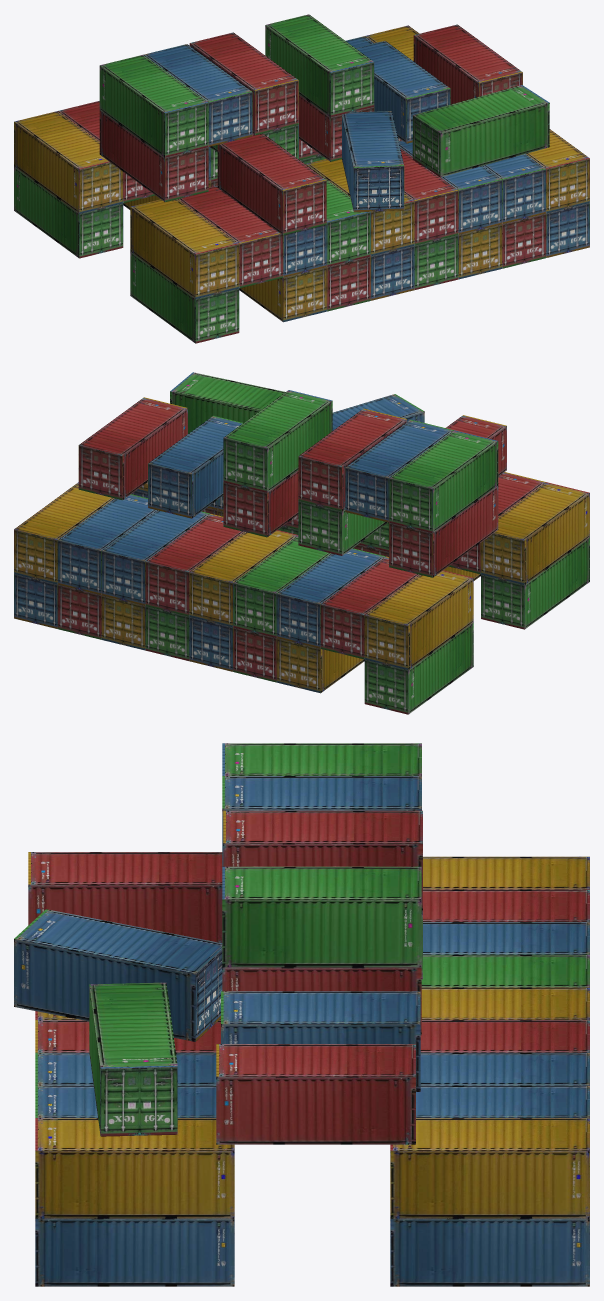
3 renders of one model, top to bottom at view 1: azimuth 30°, elevation 25°; view 2: azimuth 150°, elevation 25°; view 3: azimuth 270°, elevation 25°, orthographic. The views are drawn at different scales.
Parts seen in each view (by area): view 1: polySurface37; view 2: polySurface37; view 3: polySurface37.
Part boxes in pixels (left/top/right/bottom): polySurface37: left=14, top=14, right=589, bottom=343; polySurface37: left=14, top=372, right=589, bottom=714; polySurface37: left=14, top=743, right=589, bottom=1286.
Size of the model in its own units: 58.03 by 25.05 by 48.03.
1 material, 1 textured.
